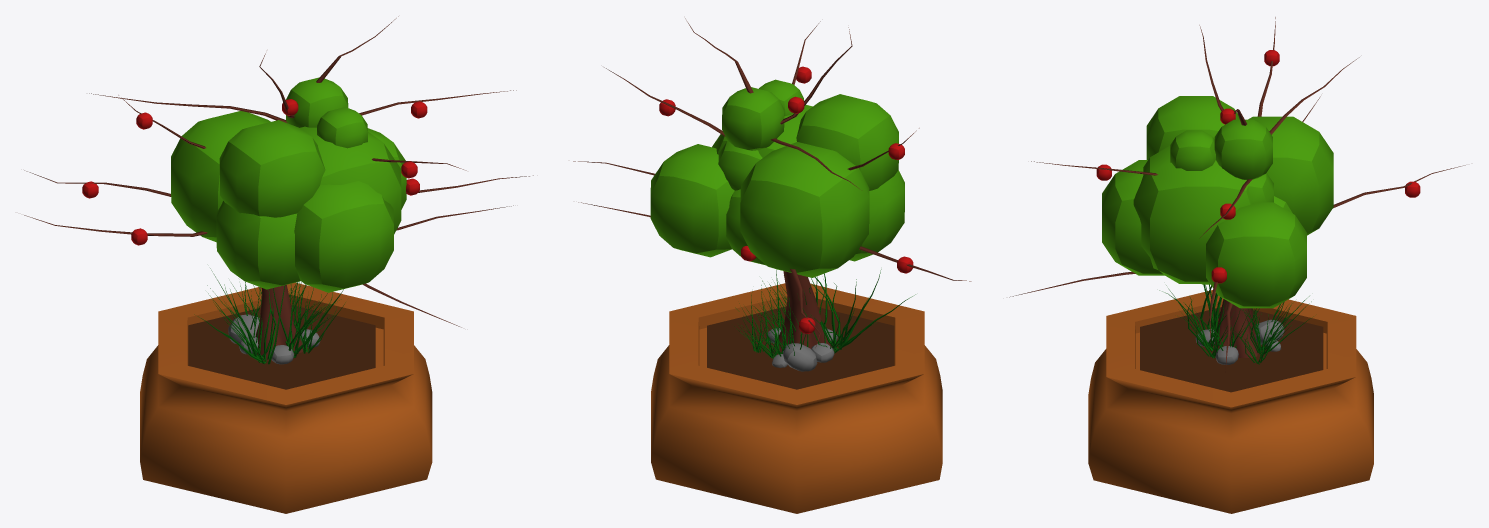
The model's file is vaso2.FBX.
3 views of the same model, side by side, from view 1: azimuth 30°, elevation 25°; view 2: azimuth 150°, elevation 25°; view 3: azimuth 270°, elevation 25° (orthographic). The views are drawn at different scales.
Visible parts, largest first — view 1: Cylinder001; view 2: Cylinder001; view 3: Cylinder001.
Boxes of the visible parts, x1,y1,x2,y2 form: Cylinder001: (24,16,533,513); Cylinder001: (573,18,971,513); Cylinder001: (1009,17,1465,513).
Bounding box in the file's own units: 48.59 × 41.72 × 43.65.
